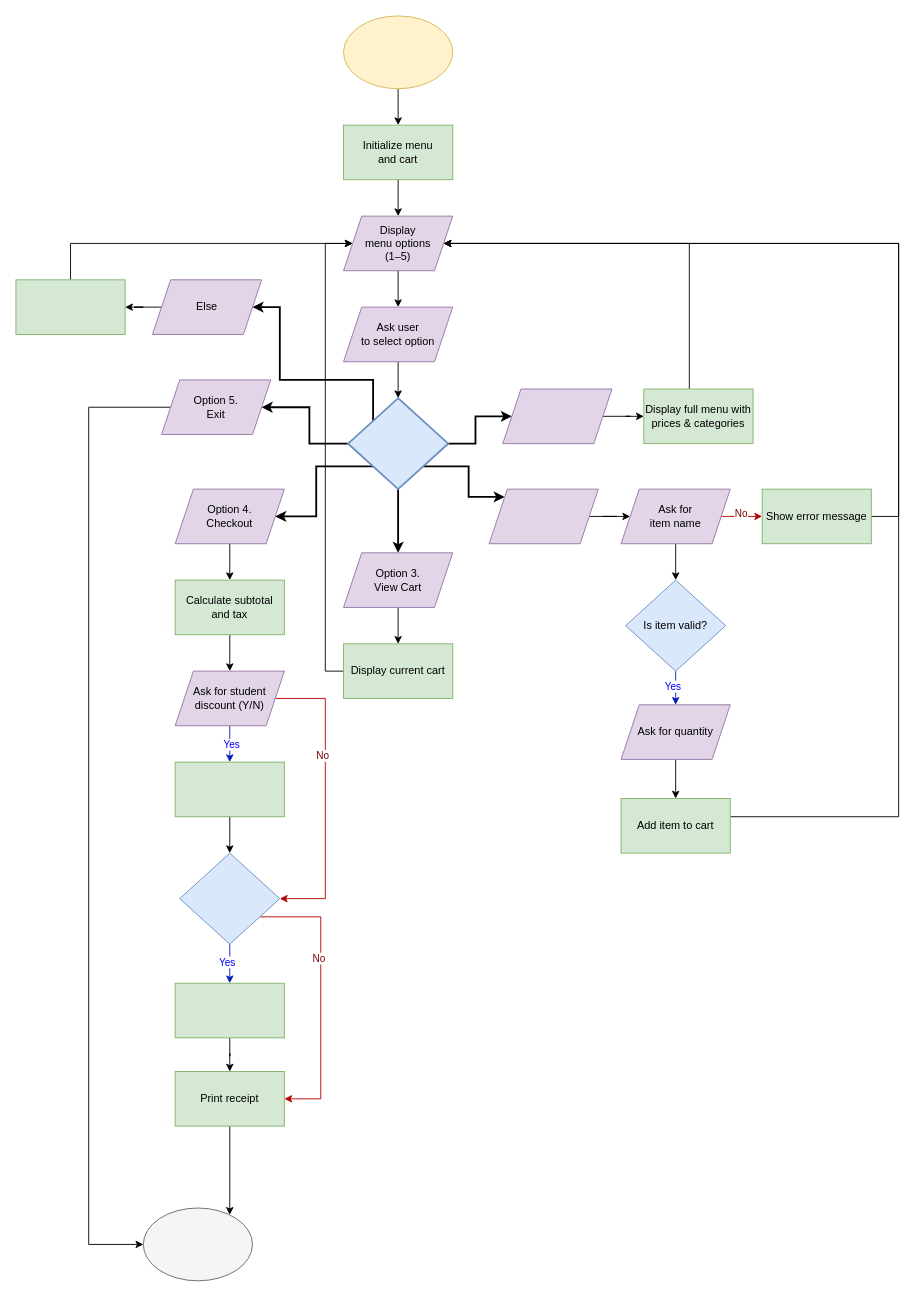
The diagram is 922 pixels wide and 1297 high, and some of its shapes have lost their labels. Each missing label, with the centre of its shape:
"Apply discount" goes at [229,789].
"Apply meal deal" goes at [229,1010].
"End" goes at [197,1244].
"Is food + drink in cart?" goes at [229,898].
"Option 1. Show Menu" goes at [557,416].
"Option 2. Add Item" goes at [543,516].
"Show invalid input message" goes at [70,306].
"Start" goes at [398,52].
"What is user input?" goes at [398,443].
